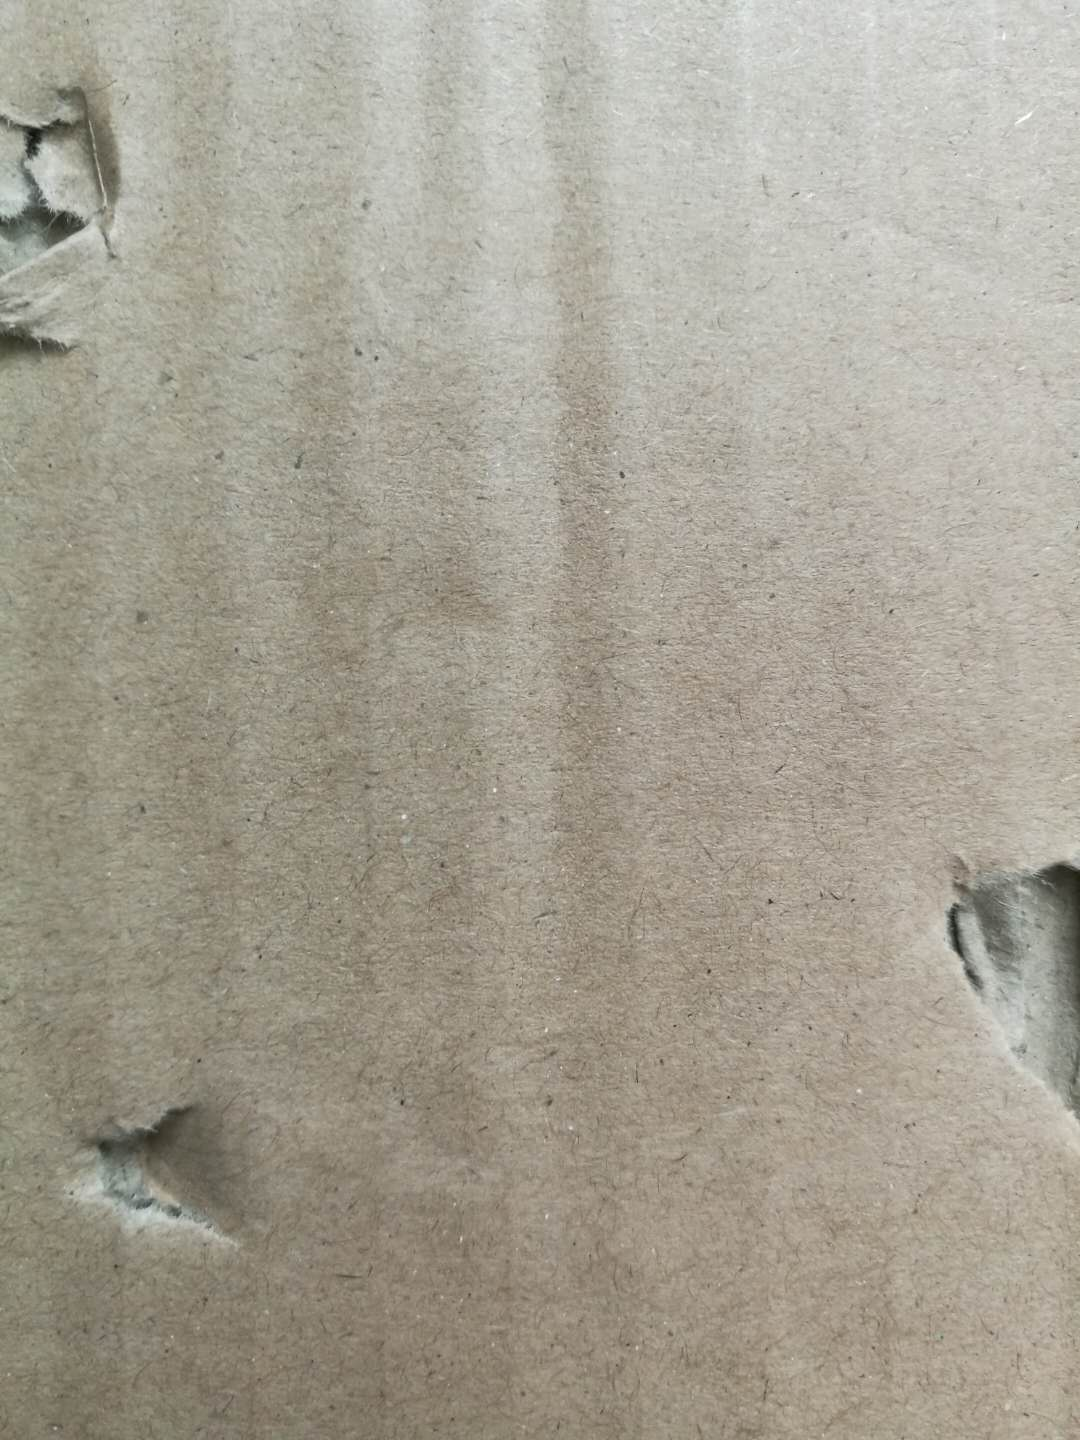defect: (914, 788, 1080, 1159), (40, 1054, 302, 1282), (3, 39, 157, 378)
